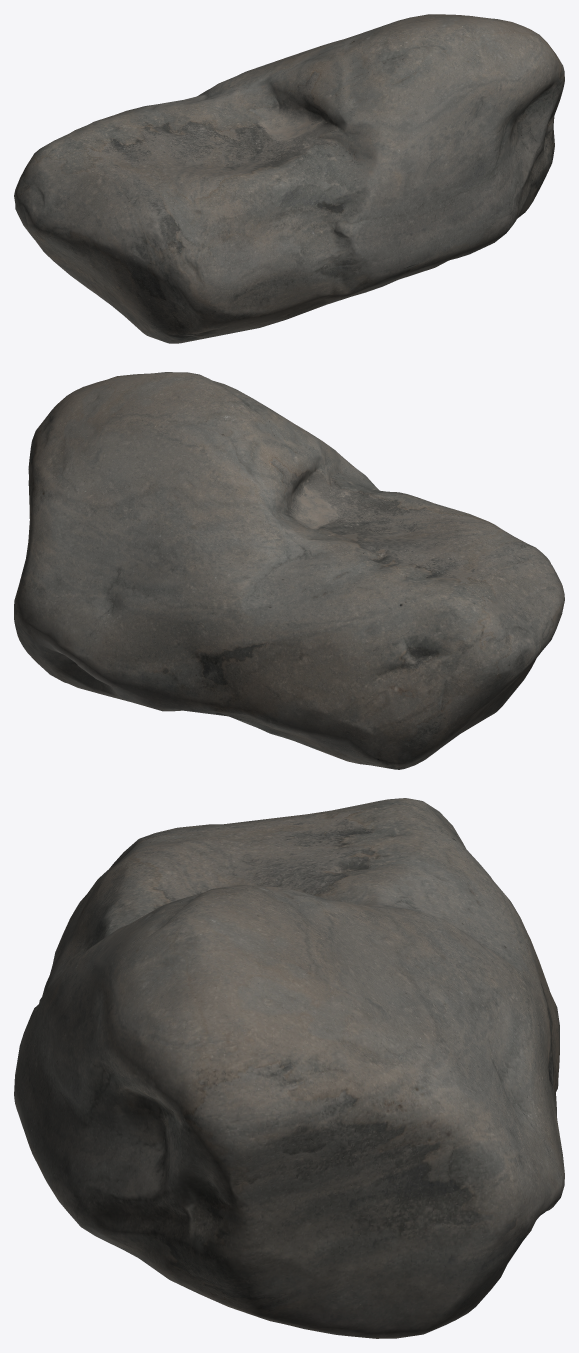
File: SM_yh1kbgz_tier_2.gltf
3 views of the same model, one above another, from view 1: azimuth 30°, elevation 25°; view 2: azimuth 150°, elevation 25°; view 3: azimuth 270°, elevation 25° (orthographic). The views are drawn at different scales.
Parts seen in each view (by area): view 1: yh1kbgz_LOD2_TIER2_000; view 2: yh1kbgz_LOD2_TIER2_000; view 3: yh1kbgz_LOD2_TIER2_000.
Part boxes in pixels (left/top/right/bottom): yh1kbgz_LOD2_TIER2_000: left=14, top=14, right=564, bottom=343; yh1kbgz_LOD2_TIER2_000: left=14, top=372, right=564, bottom=769; yh1kbgz_LOD2_TIER2_000: left=14, top=798, right=564, bottom=1338.
Bounding box in the file's own units: 0.8109 × 0.3802 × 0.4913.
Materials: 1 (1 with a texture image).
